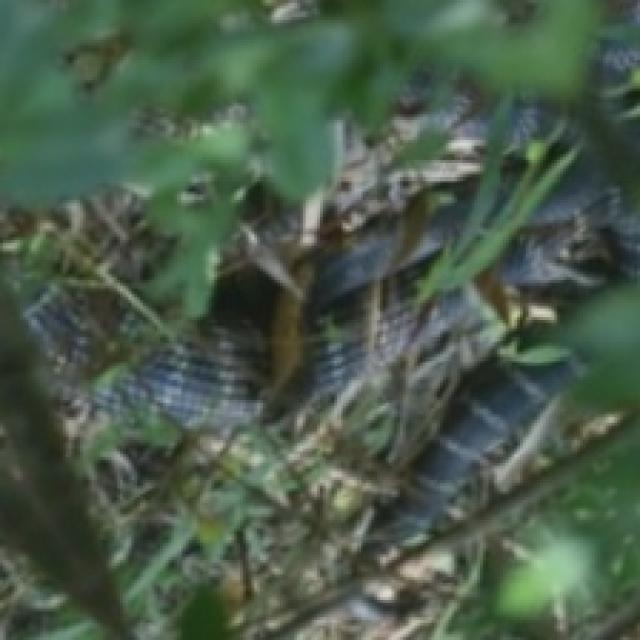king cobra: (361, 360, 575, 567), (61, 280, 269, 440), (501, 165, 640, 314), (310, 202, 465, 323), (300, 320, 365, 408), (29, 290, 90, 370), (421, 288, 485, 332), (380, 309, 409, 359)
